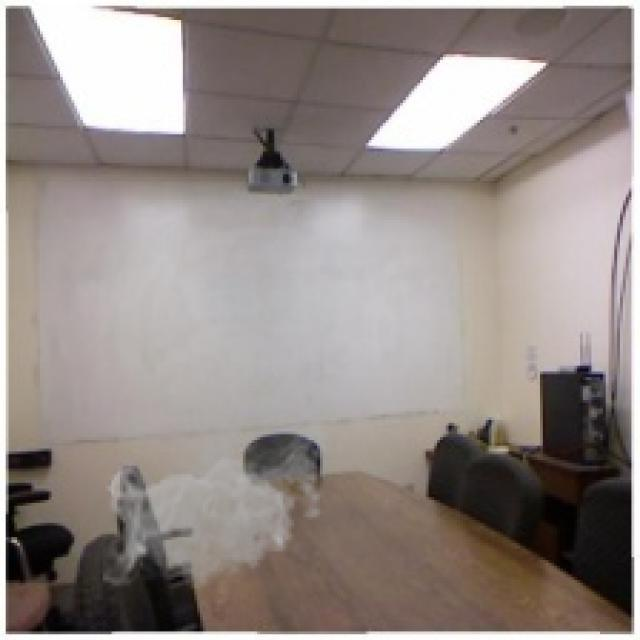Smoke: (102, 394, 338, 597)
